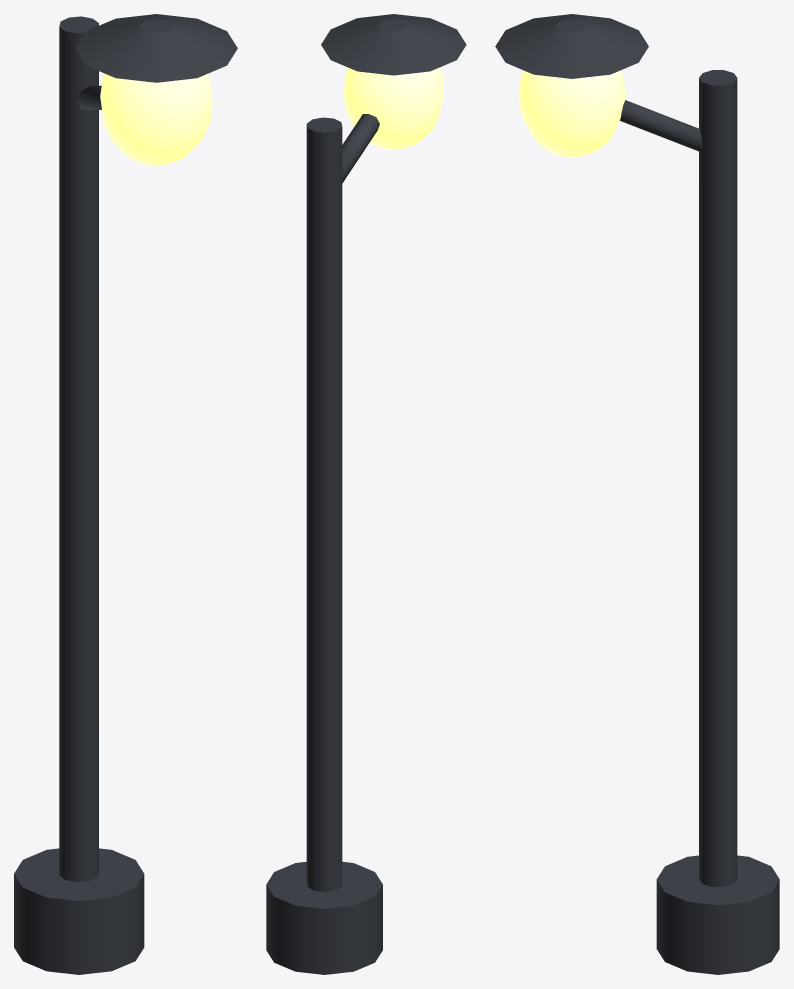
Rendered from lamp.glb.
3 views of the same model, side by side, from view 1: azimuth 30°, elevation 25°; view 2: azimuth 150°, elevation 25°; view 3: azimuth 270°, elevation 25° (orthographic). The views are drawn at different scales.
Visible parts, largest first — view 1: LampPost, LampGlow; view 2: LampPost, LampGlow; view 3: LampPost, LampGlow.
Boxes of the visible parts, x1,y1,x2,y2 form: LampPost: [14, 14, 237, 974]; LampGlow: [100, 74, 212, 166]; LampPost: [266, 14, 466, 974]; LampGlow: [343, 67, 444, 150]; LampPost: [495, 14, 779, 974]; LampGlow: [518, 70, 625, 157].
Bounding box in the file's own units: 0.4 × 2.65 × 0.74.
